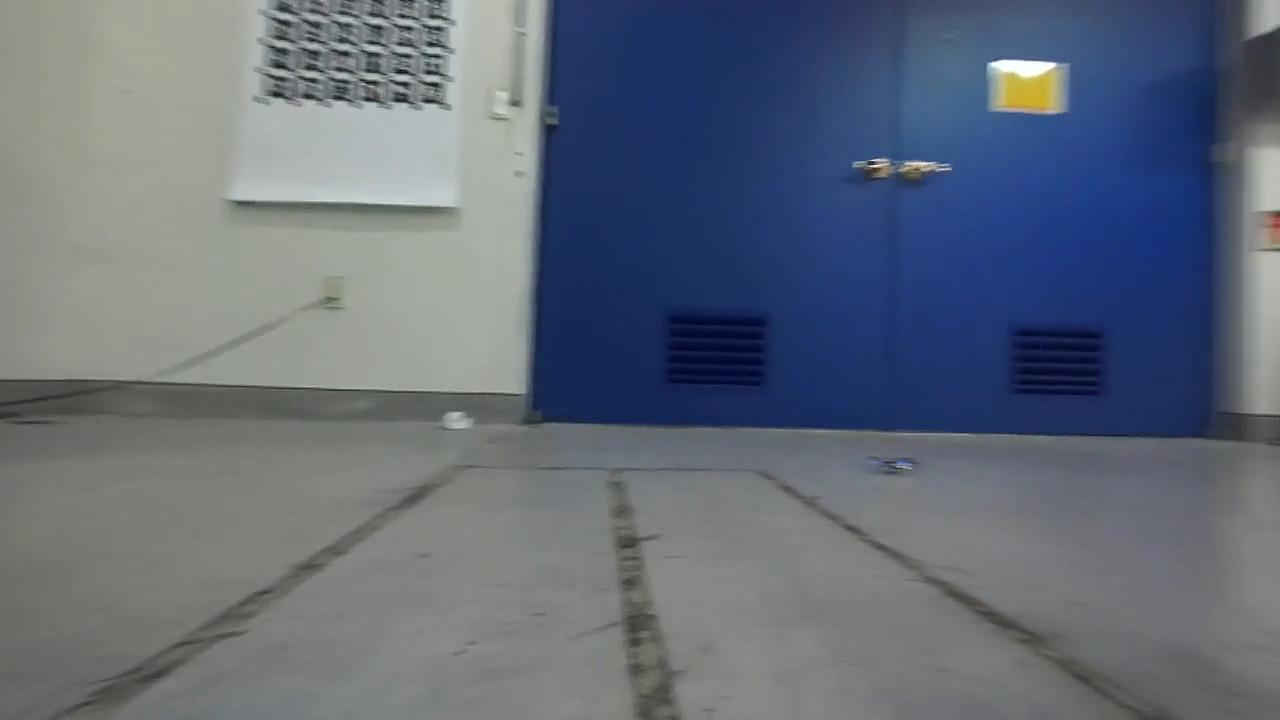crazyflie: (857, 448, 929, 481)
